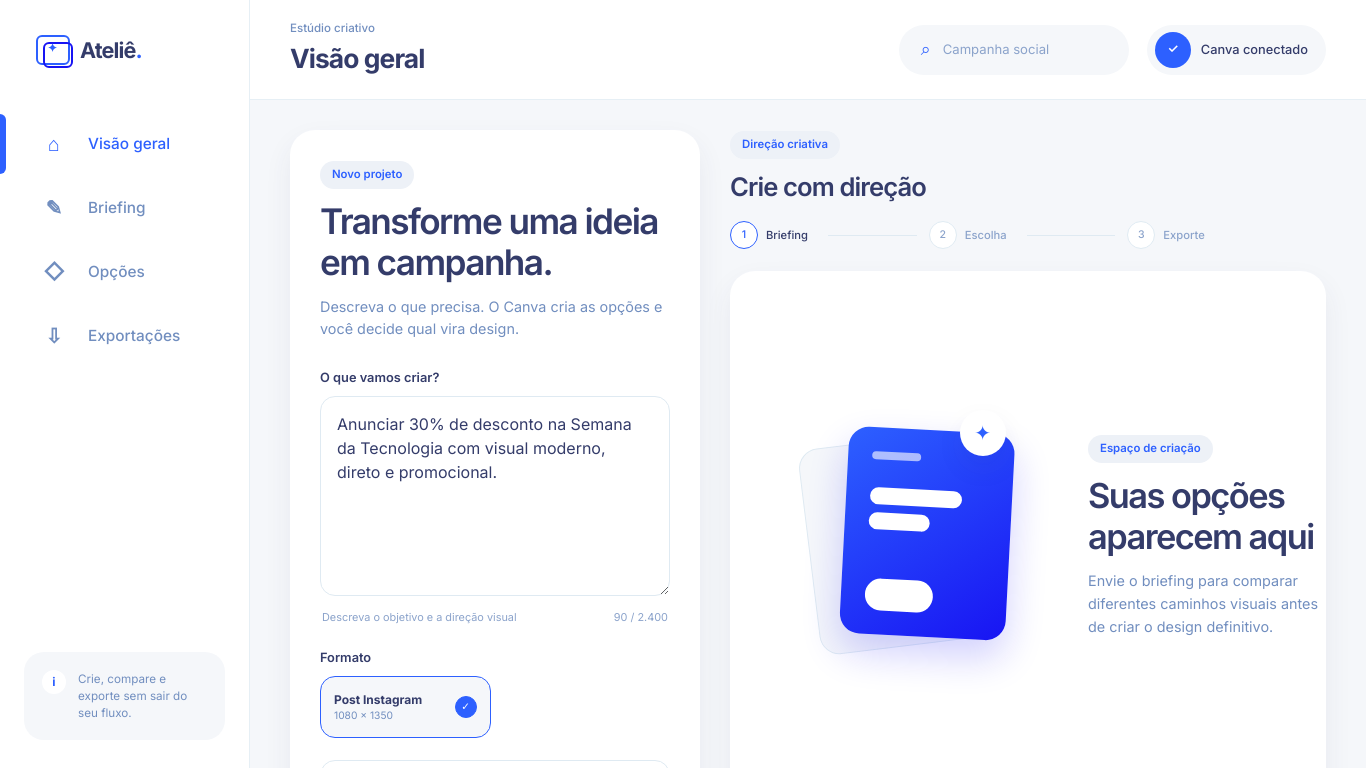
Scenario: Home › preserva o briefing quando a geração falha
expect the text "Canva conectado" is shown: met, box x1=1201 y1=40 x2=1308 y2=59
Replace the text in the text box labelled "O que vamos criar?" with "Briefing de campanha que deve permanecer". click: (495, 496)
box: x1=320 y1=396 x2=670 y2=596
(page scrolled)
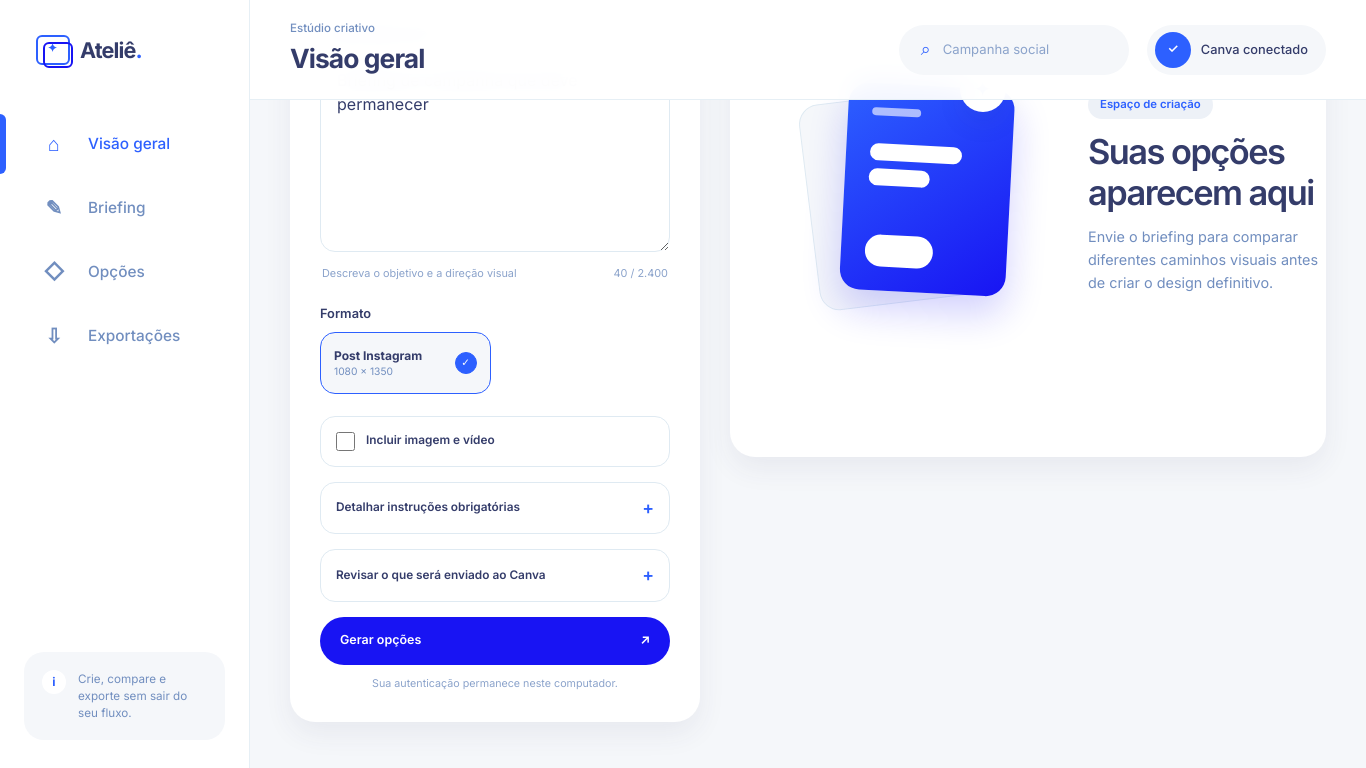
Click the button "Gerar opções ↗". click: (381, 640)
box: x1=320 y1=617 x2=670 y2=665
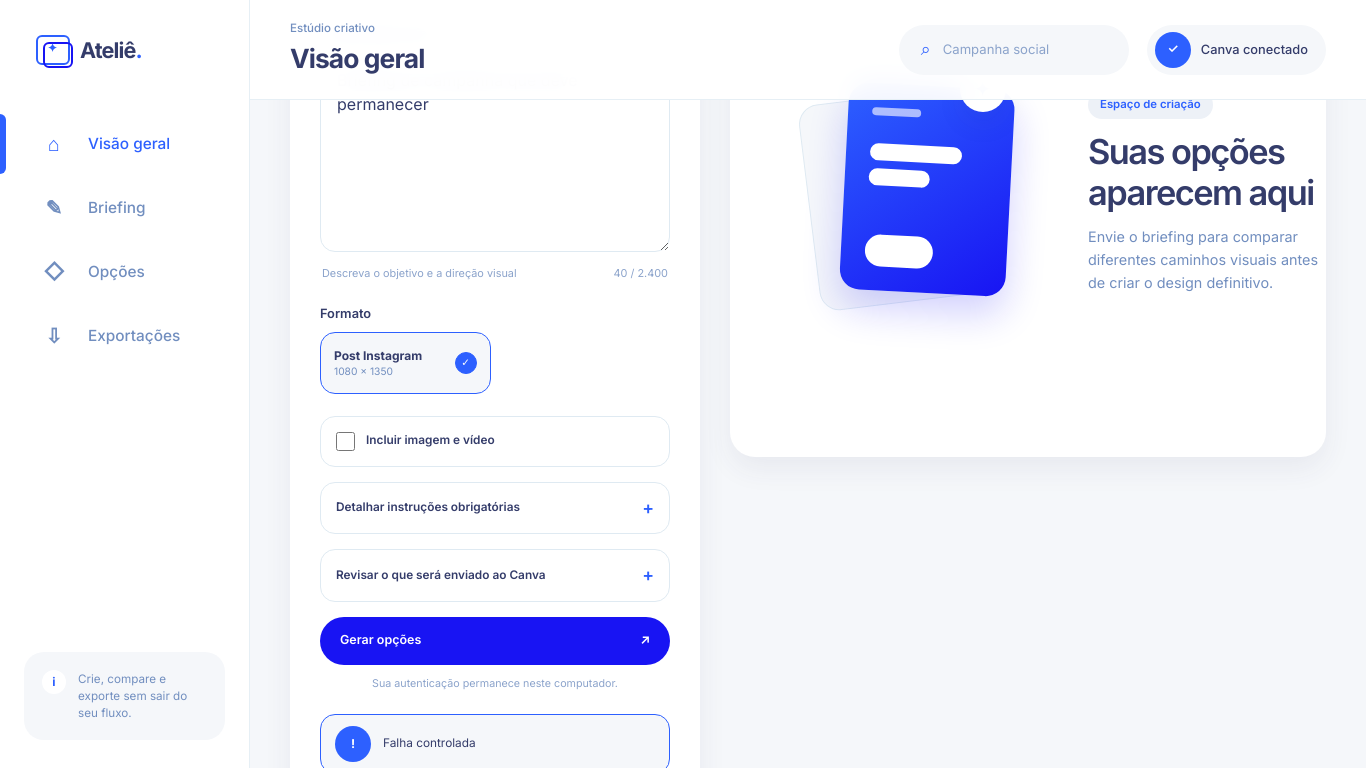
expect the message shows "Falha controlada": met, box x1=383 y1=736 x2=476 y2=750
